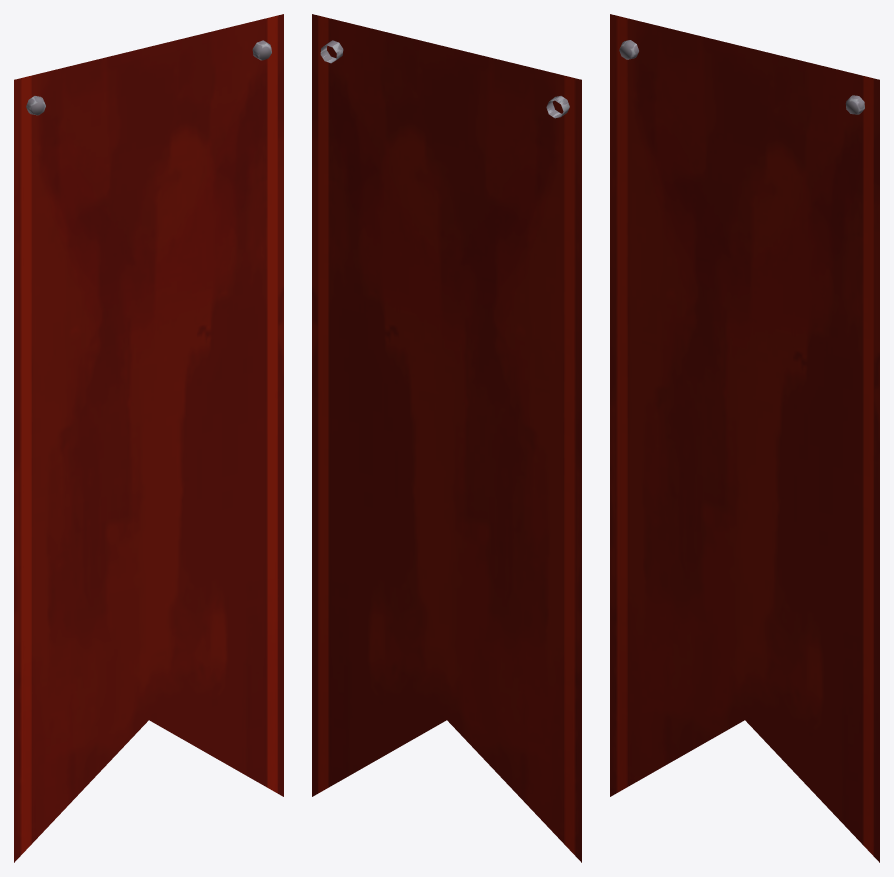
File: Banner_1_Cloth.gltf
The picture shows the model from 3 angles, left to right: view 1: azimuth 30°, elevation 25°; view 2: azimuth 150°, elevation 25°; view 3: azimuth 330°, elevation 25°; orthographic projection.
Visible parts, largest first — view 1: Banner_1_Cloth; view 2: Banner_1_Cloth; view 3: Banner_1_Cloth.
Part boxes in pixels (x1=…): Banner_1_Cloth: x1=14, y1=14, x2=283, y2=862; Banner_1_Cloth: x1=312, y1=14, x2=581, y2=862; Banner_1_Cloth: x1=610, y1=14, x2=879, y2=862.
Size of the model in its own units: 0.8102 by 2.25 by 0.0568.
2 materials, 2 textured.
